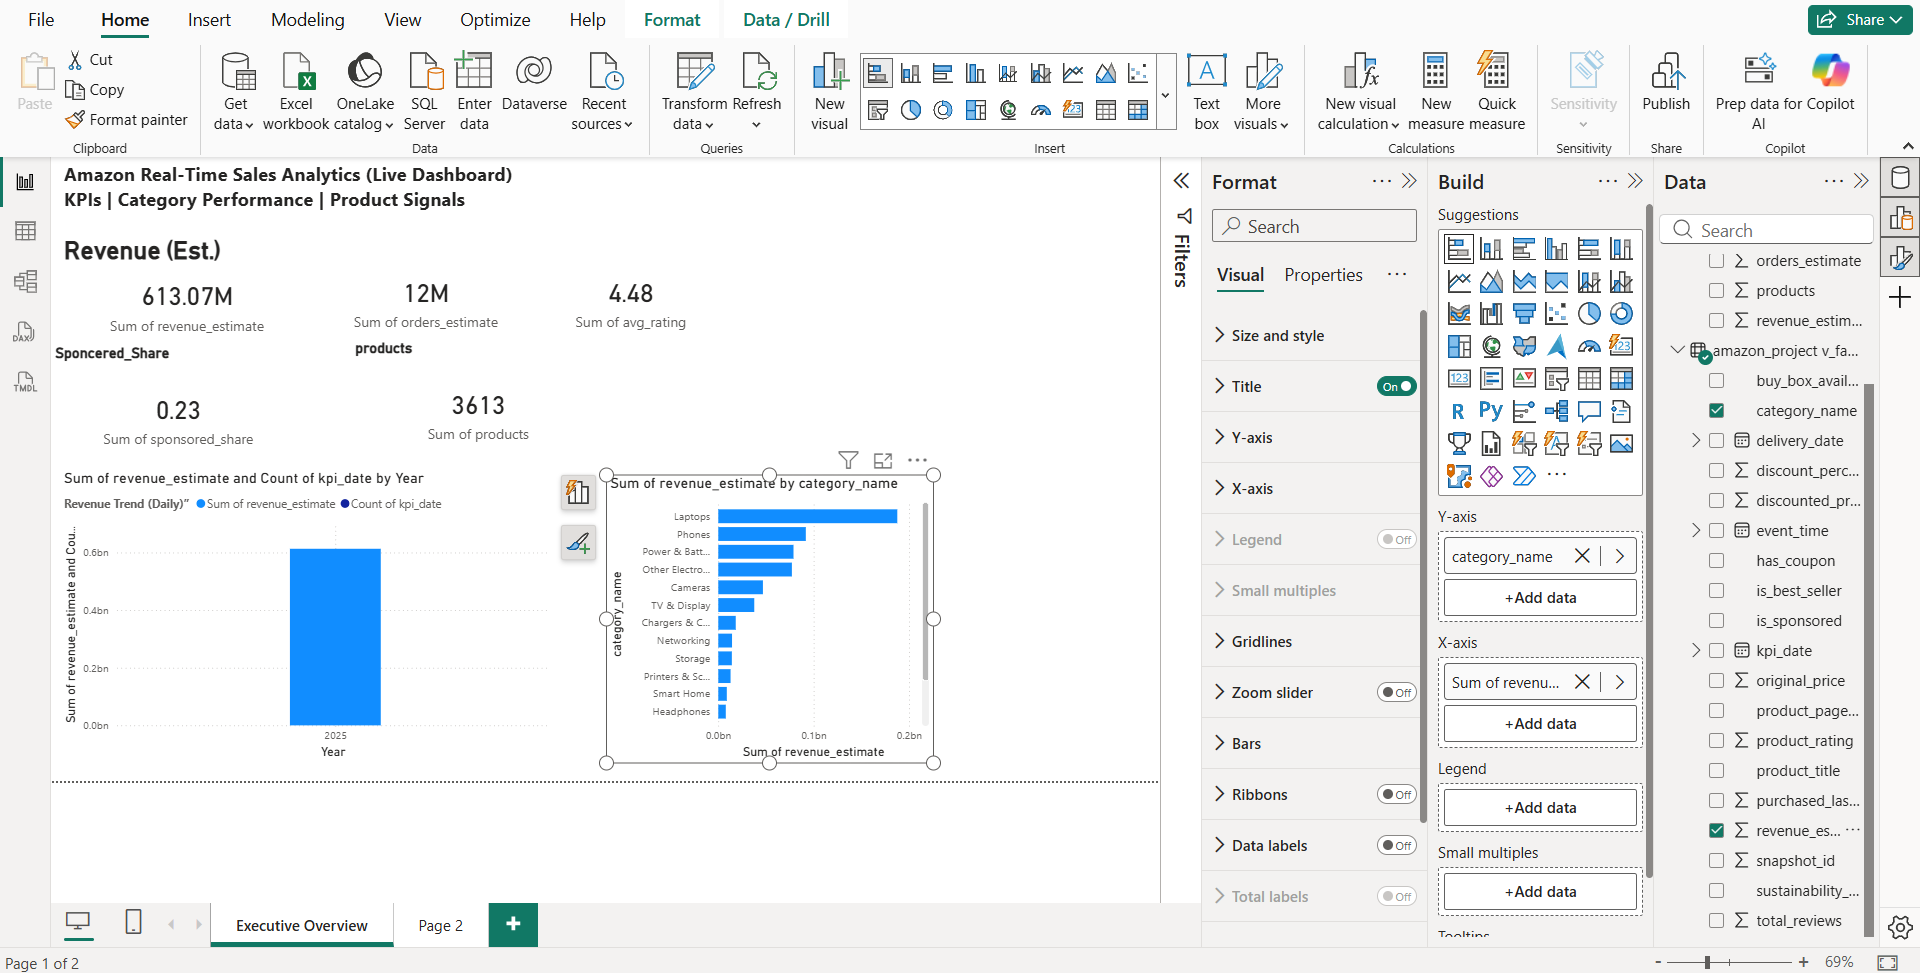

What the dashboard file says about the page in this screenshot:
{"tool":"powerbi","page":{"name":"Executive Overview","canvas":[1280,720],"ordinal":0},"visuals":[{"type":"textbox","box":[9.4,7.5,426.5,127.2],"z":0},{"type":"card","title":"Revenue (Est.)","fields":{"Values":["Sum(amazon_project daily_kpi.revenue_estimate)"]},"box":[0,125.3,243.2,116],"z":1000},{"type":"card","fields":{"Values":["Sum(amazon_project daily_kpi.orders_estimate)"]},"box":[0,536.9,205.8,149.7],"z":2000},{"type":"card","fields":{"Values":["Sum(amazon_project daily_kpi.avg_rating)"]},"box":[205.8,102.9,293.7,149.7],"z":3000},{"type":"card","title":"Sponcered_Share","fields":{"Values":["Sum(amazon_project daily_kpi.sponsored_share)"]},"box":[0,263.8,230.1,117.9],"z":4000},{"type":"card","title":"products","fields":{"Values":["Sum(amazon_project daily_kpi.products)"]},"box":[15,417.2,190.8,119.7],"z":5000},{"type":"lineStackedColumnComboChart","fields":{"Category":["amazon_project v_category_daily_kpi.kpi_date.Variation.Date Hierarchy.Year","amazon_project v_category_daily_kpi.kpi_date.Variation.Date Hierarchy.Quarter","amazon_project v_category_daily_kpi.kpi_date.Variation.Date Hierarchy.Month","amazon_project v_category_daily_kpi.kpi_date.Variation.Date Hierarchy.Day","amazon_project v_fact_snapshot_enriched.kpi_date.Variation.Date Hierarchy.Year","amazon_project v_fact_snapshot_enriched.kpi_date.Variation.Date Hierarchy.Quarter","amazon_project v_fact_snapshot_enriched.kpi_date.Variation.Date Hierarchy.Month","amazon_project v_fact_snapshot_enriched.kpi_date.Variation.Date Hierarchy.Day"],"Y":["Sum(amazon_project daily_kpi.revenue_estimate)","CountNonNull(amazon_project daily_kpi.kpi_date)"]},"box":[845.6,293.7,434,426.5],"z":6000},{"type":"barChart","fields":{"Category":["amazon_project v_fact_snapshot_enriched.category_name"],"Y":["Sum(amazon_project v_fact_snapshot_enriched.revenue_estimate)"]},"box":[243.2,263.8,570.6,443.4],"z":7000},{"type":"advancedSlicerVisual","fields":{"Values":["amazon_project v_category_daily_kpi.kpi_date"]},"box":[1051.4,31.8,205.8,102.9],"z":7001},{"type":"advancedSlicerVisual","fields":{"Values":["amazon_project v_category_daily_kpi.category_name"]},"box":[538.8,7.5,548.2,189],"z":7002}]}

Visuals, with their boxes on the page's 1280x720 design canvas (x1, y1, x2, y2). These are canvas units, not pixel positions in the 1920x973 screenshot, which may show the page scaled, cropped or inside an application window:
textbox: {"left": 9, "top": 8, "right": 436, "bottom": 135}
"Revenue (Est.)" card: {"left": 0, "top": 125, "right": 243, "bottom": 241}
card - Sum(amazon_project daily_kpi.orders_estimate): {"left": 0, "top": 537, "right": 206, "bottom": 687}
card - Sum(amazon_project daily_kpi.avg_rating): {"left": 206, "top": 103, "right": 500, "bottom": 253}
"Sponcered_Share" card: {"left": 0, "top": 264, "right": 230, "bottom": 382}
"products" card: {"left": 15, "top": 417, "right": 206, "bottom": 537}
lineStackedColumnComboChart - amazon_project v_category_daily_kpi.kpi_date.Variation.Date Hierarchy.Year x amazon_project v_category_daily_kpi.kpi_date.Variation.Date Hierarchy.Quarter: {"left": 846, "top": 294, "right": 1280, "bottom": 720}
barChart - amazon_project v_fact_snapshot_enriched.category_name x Sum(amazon_project v_fact_snapshot_enriched.revenue_estimate): {"left": 243, "top": 264, "right": 814, "bottom": 707}
advancedSlicerVisual - amazon_project v_category_daily_kpi.kpi_date: {"left": 1051, "top": 32, "right": 1257, "bottom": 135}
advancedSlicerVisual - amazon_project v_category_daily_kpi.category_name: {"left": 539, "top": 8, "right": 1087, "bottom": 196}
